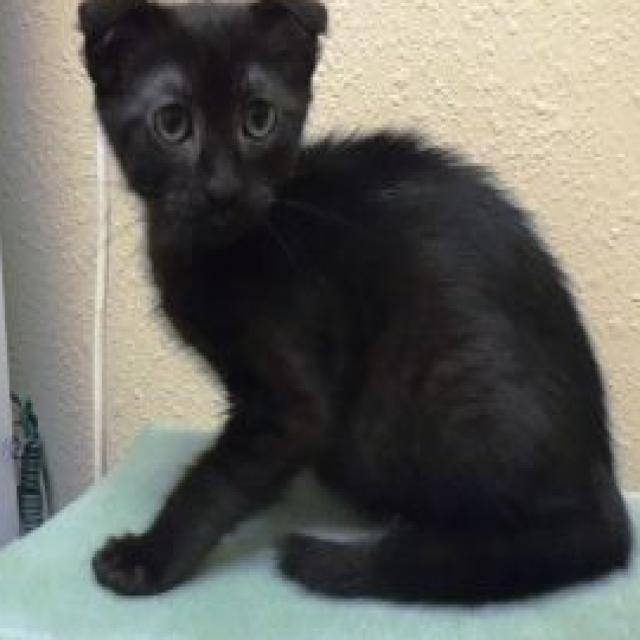Scottish Fold: (76, 0, 633, 610)
